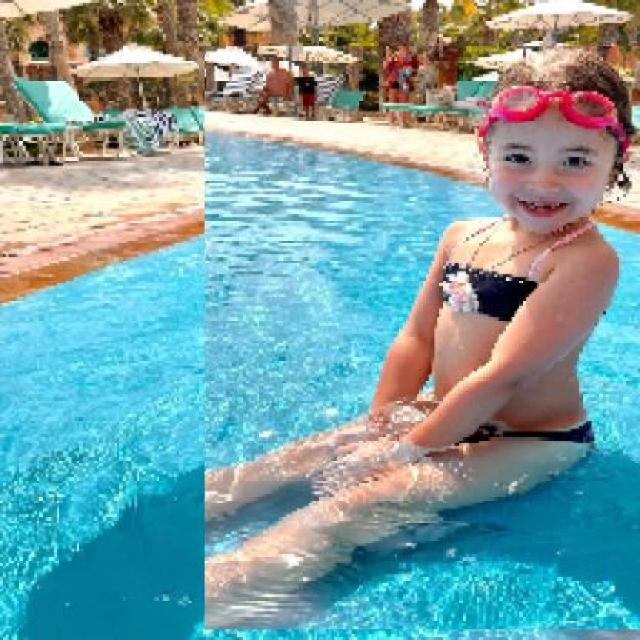child: (203, 46, 640, 631)
